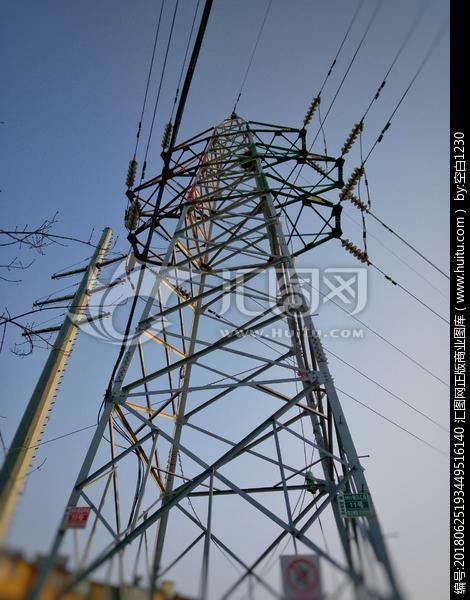power_tower: (17, 99, 399, 600)
